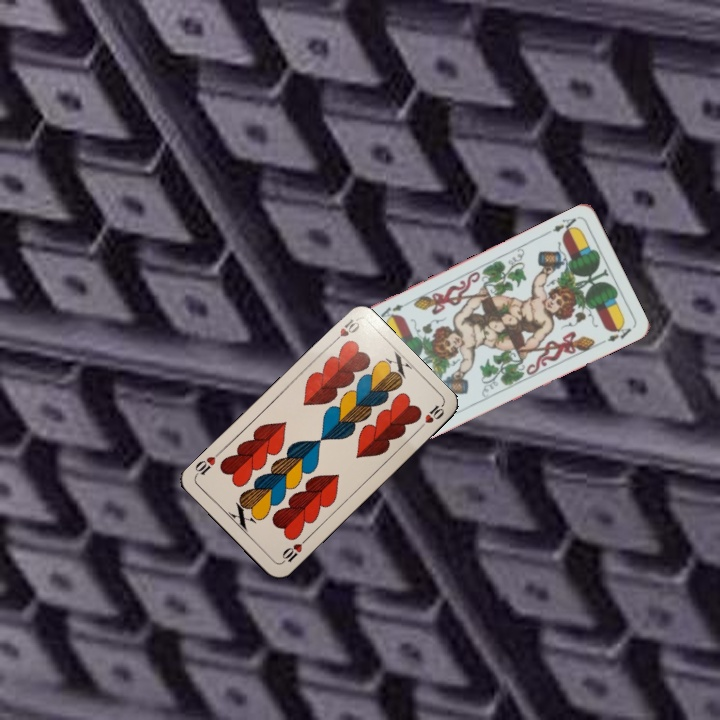EA: (543, 213, 581, 237)
H10: (327, 314, 362, 347), (278, 534, 310, 566)
